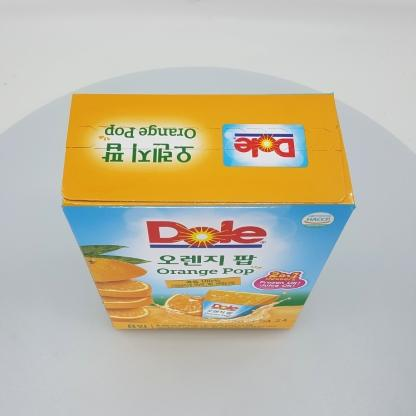--------496ML: (61, 92, 356, 329)
